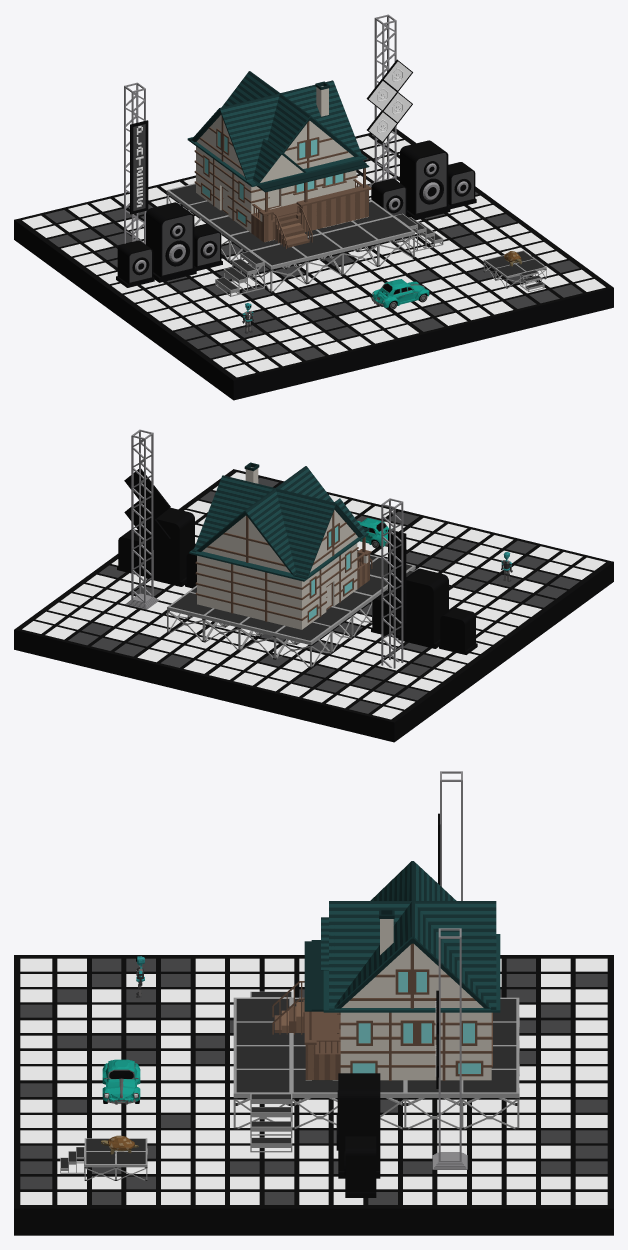
3 views of the same model, one above another, from view 1: azimuth 30°, elevation 25°; view 2: azimuth 150°, elevation 25°; view 3: azimuth 270°, elevation 25° (orthographic). The views are drawn at different scales.
Visible parts, largest first — view 1: Cube.008, Cube.793, VEHICLES_VOLKSWAGEN; view 2: Cube.008, Cube.793, VEHICLES_VOLKSWAGEN; view 3: Cube.008, Cube.793, VEHICLES_VOLKSWAGEN.
Boxes of the visible parts, x1,y1,x2,y2 form: Cube.008: (14,14,613,400); Cube.793: (187,71,371,248); VEHICLES_VOLKSWAGEN: (371,279,429,309); Cube.008: (14,429,613,742); Cube.793: (189,462,372,629); VEHICLES_VOLKSWAGEN: (357,518,391,548); Cube.008: (14,771,613,1235); Cube.793: (272,861,500,1080); VEHICLES_VOLKSWAGEN: (102,1059,140,1104).
Bounding box in the file's own units: 4000 × 1975 × 4000.
35 materials, 2 textured.
